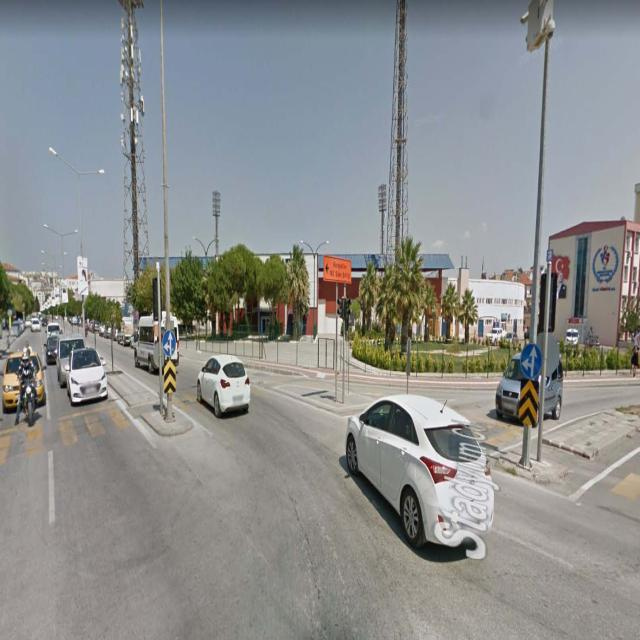ilerisol: (520, 341, 544, 380), (161, 330, 177, 356)
